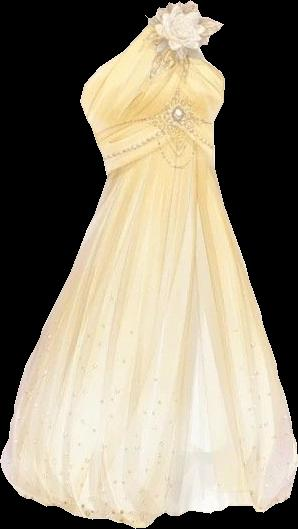Bodice: (80, 1, 224, 174)
Hemline: (0, 463, 292, 528)
Neckline: (78, 0, 195, 99)
Skirt: (1, 135, 297, 527)
Waistline: (103, 129, 215, 176)
